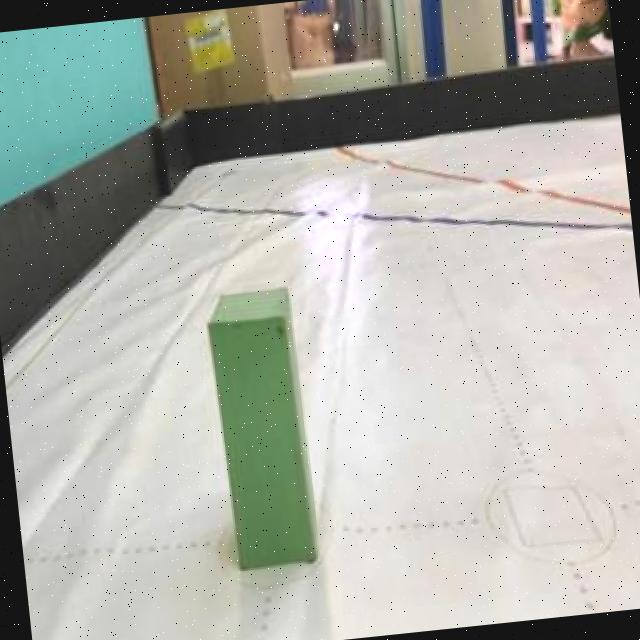greenbox: (202, 282, 323, 570)
